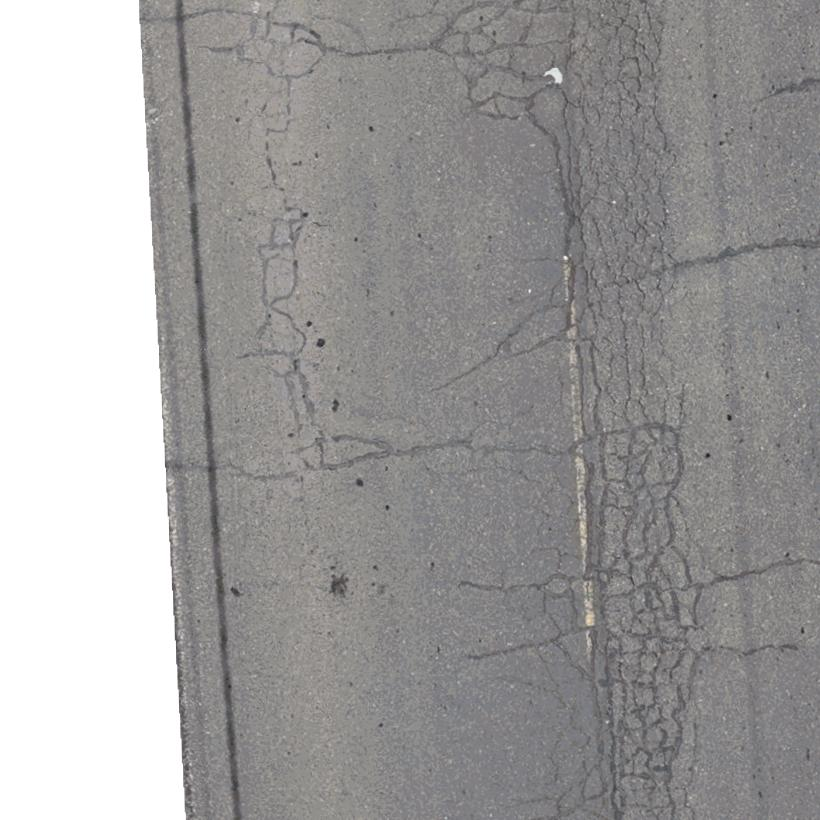GRIETA: (679, 235, 819, 270), (166, 460, 297, 481), (431, 353, 495, 392), (718, 558, 819, 582), (758, 78, 819, 104), (160, 8, 240, 23), (329, 44, 413, 57), (717, 643, 799, 656), (468, 644, 526, 660), (458, 581, 503, 590)
PIEL DE COCODRILO: (405, 0, 719, 819), (238, 184, 396, 478), (224, 0, 331, 138), (412, 402, 551, 480)
